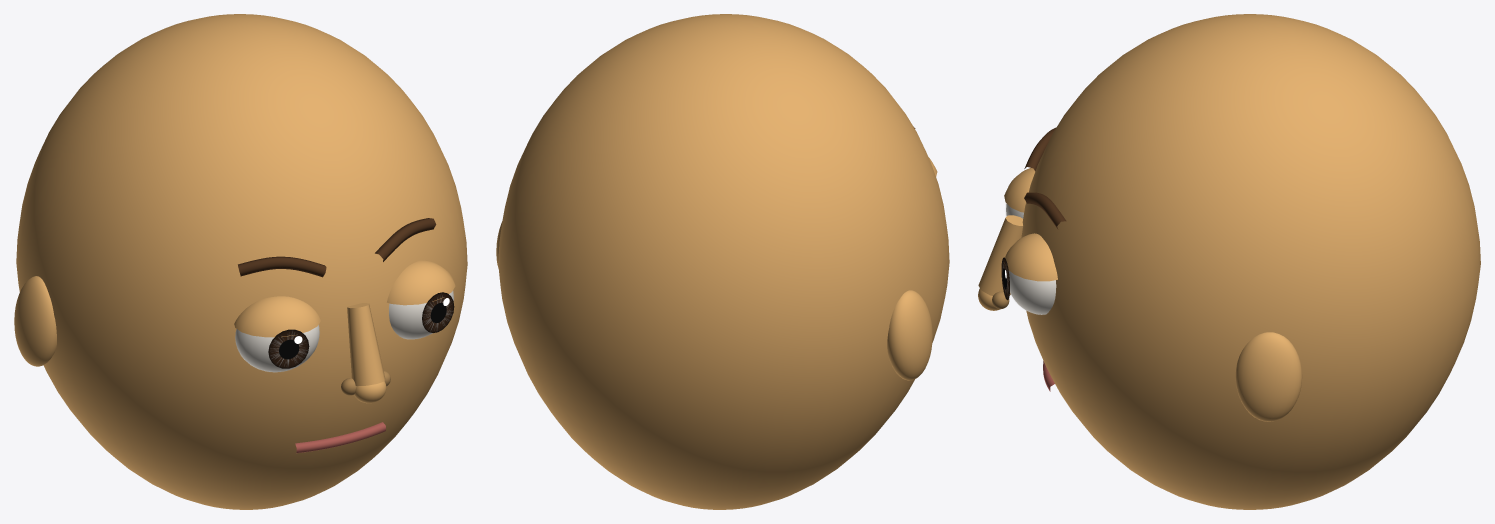
Rendered from 05-endormis.glb.
The picture shows the model from 3 angles, left to right: view 1: azimuth 30°, elevation 25°; view 2: azimuth 150°, elevation 25°; view 3: azimuth 270°, elevation 25°; orthographic projection.
Size of the model in its own units: 0.3087 by 0.321 by 0.3166.
Materials: 9 (1 with a texture image).
